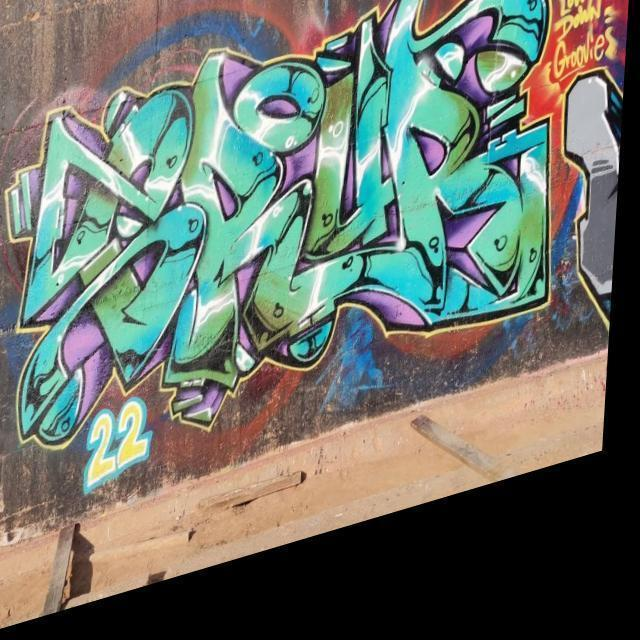nonspitting: (17, 0, 550, 453), (561, 69, 626, 326), (83, 398, 152, 494), (553, 0, 619, 78)
